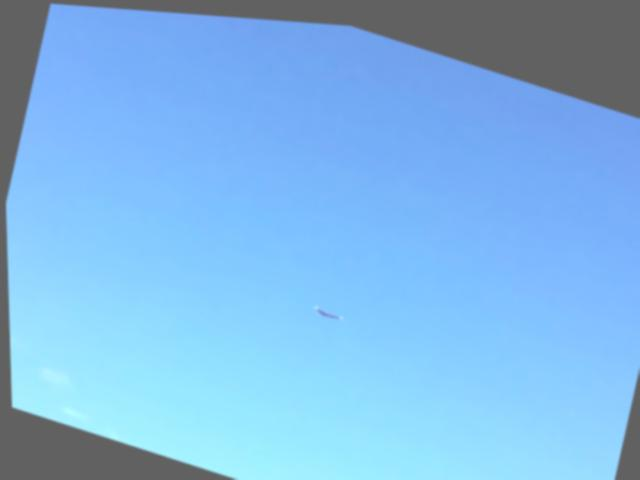flying wing: (301, 288, 348, 330)
